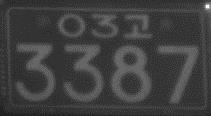0: (56, 12, 86, 37)
3: (61, 43, 104, 102), (14, 42, 56, 102), (90, 13, 118, 38)
7: (156, 44, 199, 103)
8: (109, 43, 152, 103)
고: (122, 13, 153, 39)
